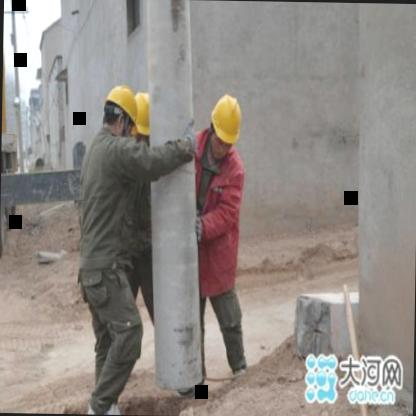helmet: (206, 94, 244, 163), (101, 82, 138, 146), (130, 88, 157, 146)
